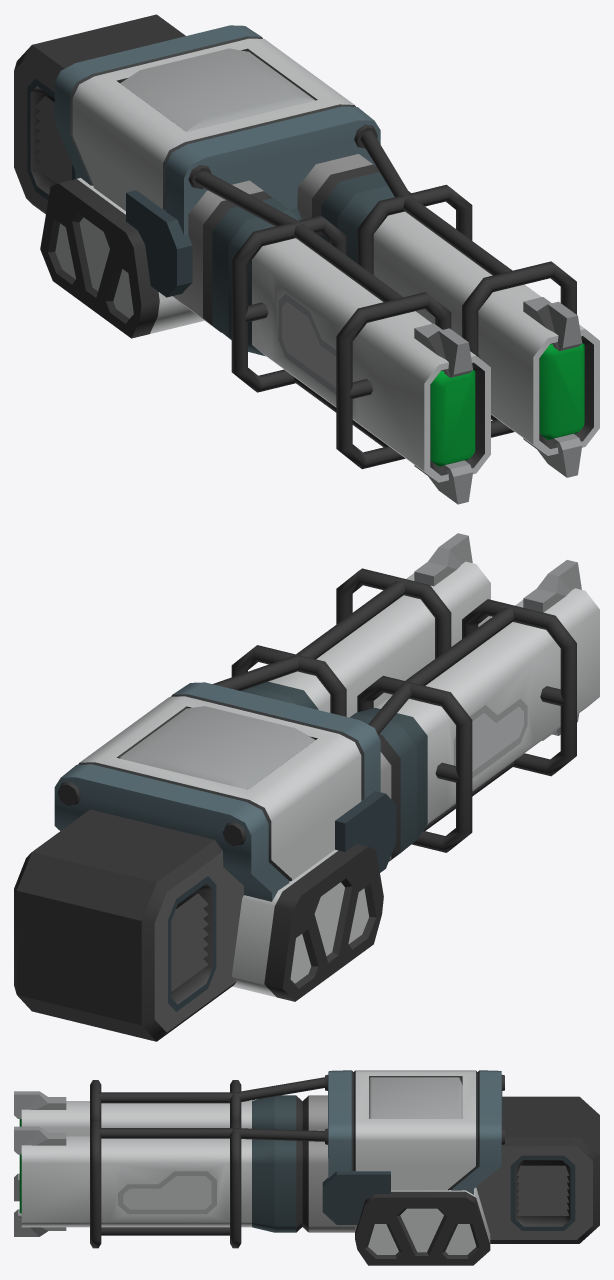
Rendered from Turret_002_Gun_01.fbx.
3 renders of one model, top to bottom at view 1: azimuth 30°, elevation 25°; view 2: azimuth 150°, elevation 25°; view 3: azimuth 270°, elevation 25°, orthographic. The views are drawn at different scales.
Parts seen in each view (by area): view 1: Turret_002_Gun_01; view 2: Turret_002_Gun_01; view 3: Turret_002_Gun_01.
Boxes of the visible parts, x1,y1,x2,y2 form: Turret_002_Gun_01: [14, 14, 599, 504]; Turret_002_Gun_01: [14, 533, 599, 1041]; Turret_002_Gun_01: [14, 1070, 599, 1265].
Bounding box in the file's own units: 111 × 347 × 92.3.
